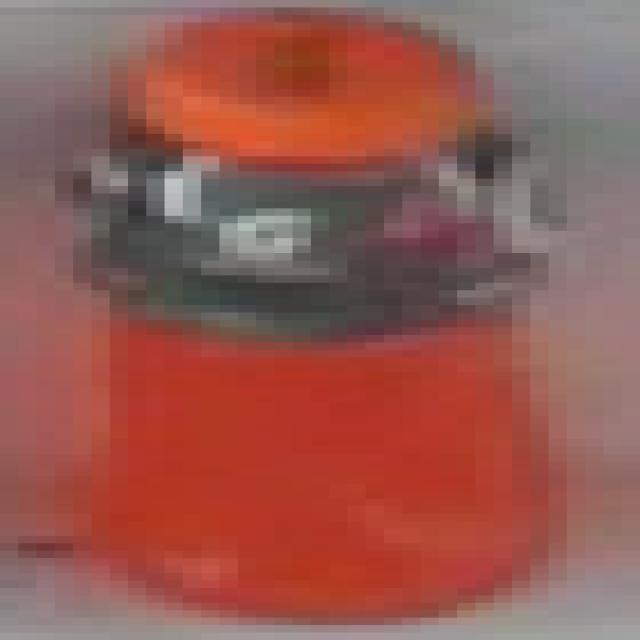Plastic: (68, 16, 568, 621)
